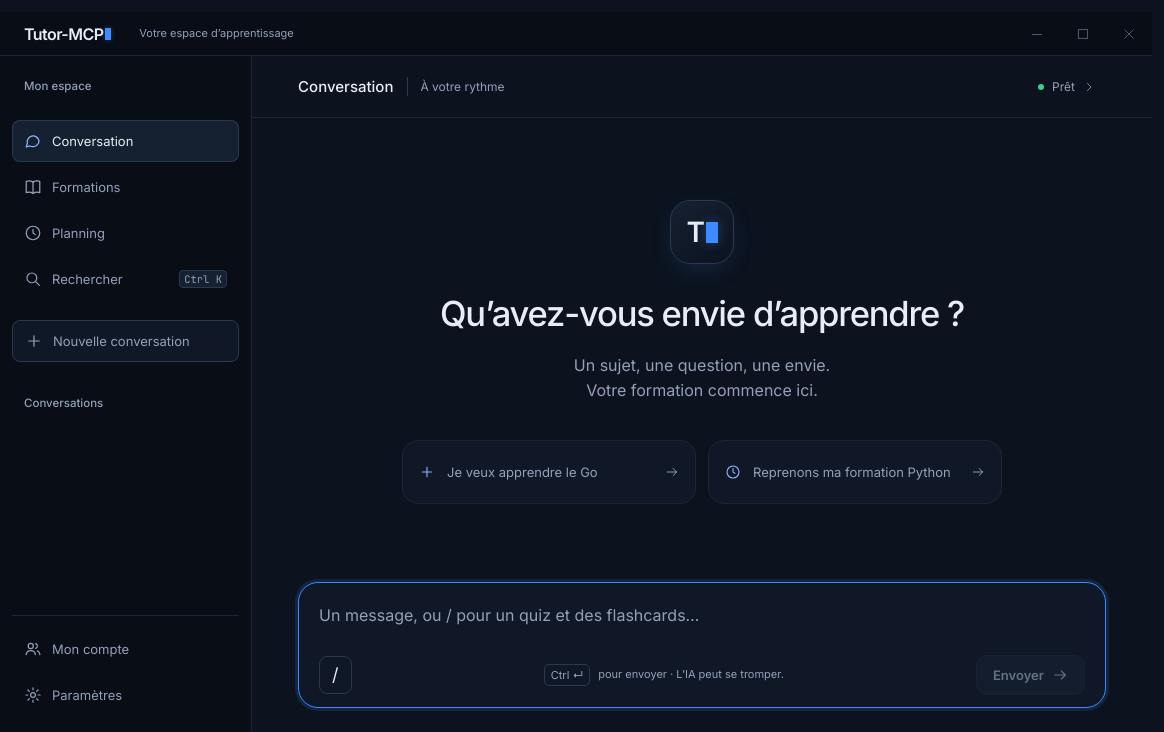
Scenario: prépare une suggestion sans l’envoyer et rend la saisie au clavier
Check: the heading "Qu’avez-vous envie d’apprendre ?" is shown, box [440,292,964,337]
Step 1. Click the button "Je veux apprendre le Go" → coordinates (549, 472), box [402,440,696,504]
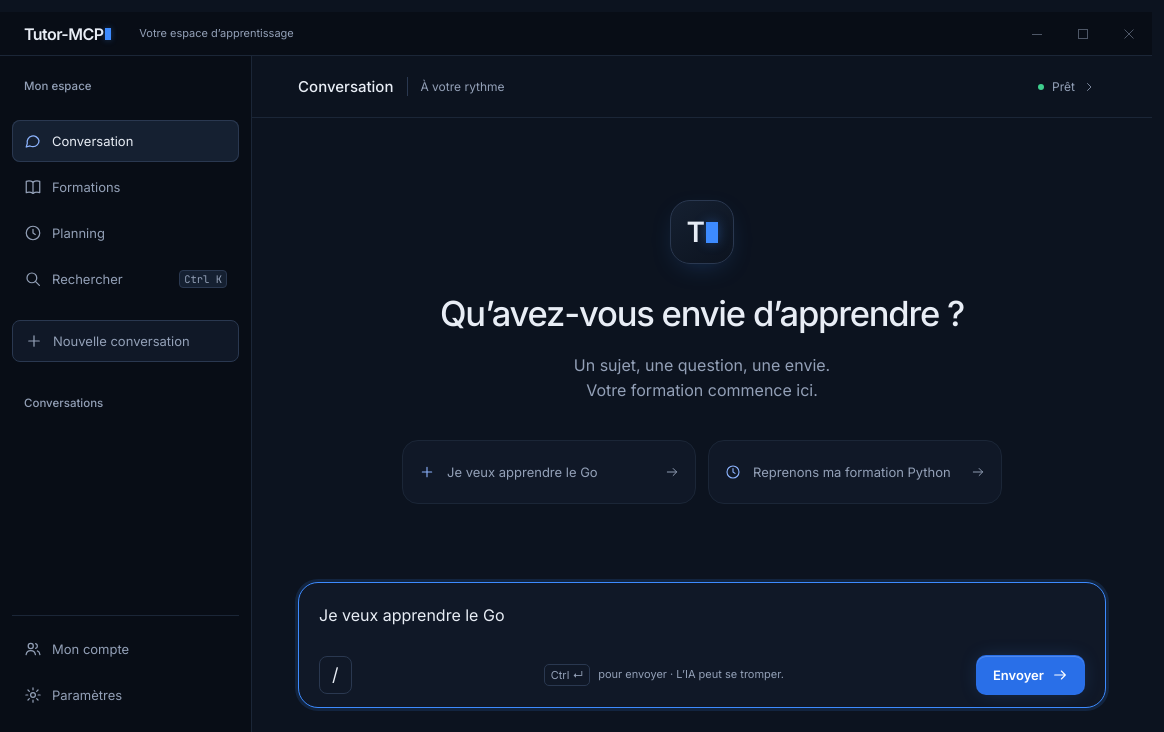
Check: the text box named "Votre message au tuteur" holds "Je veux apprendre le Go", box [319,603,1085,643]
